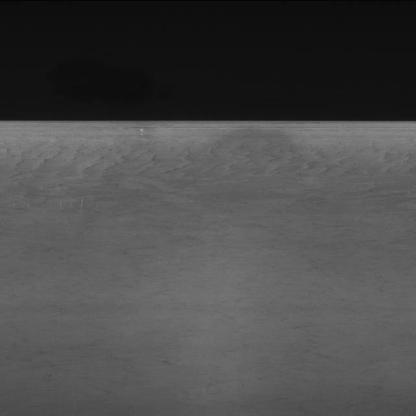silk_spot: (51, 136, 352, 206)
